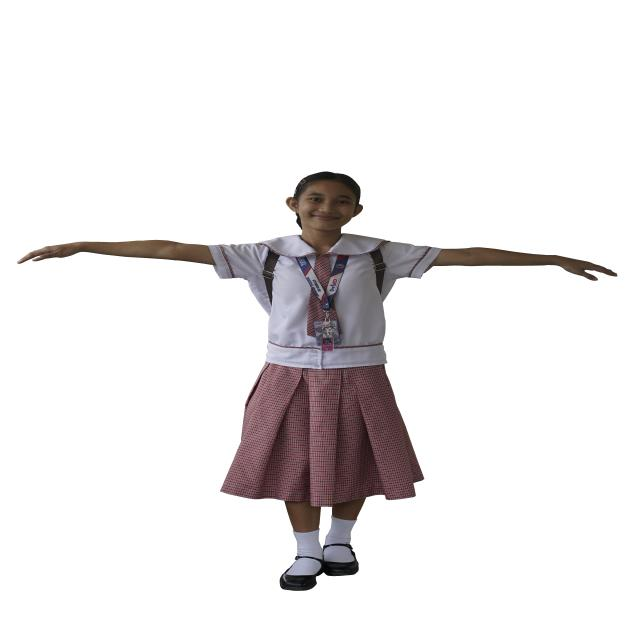id lace: (295, 255, 348, 312)
pologirl: (207, 234, 440, 369), (307, 291, 324, 336), (313, 254, 332, 292), (329, 302, 338, 320)
shoes: (279, 543, 359, 591)
skirt: (221, 364, 422, 507)
